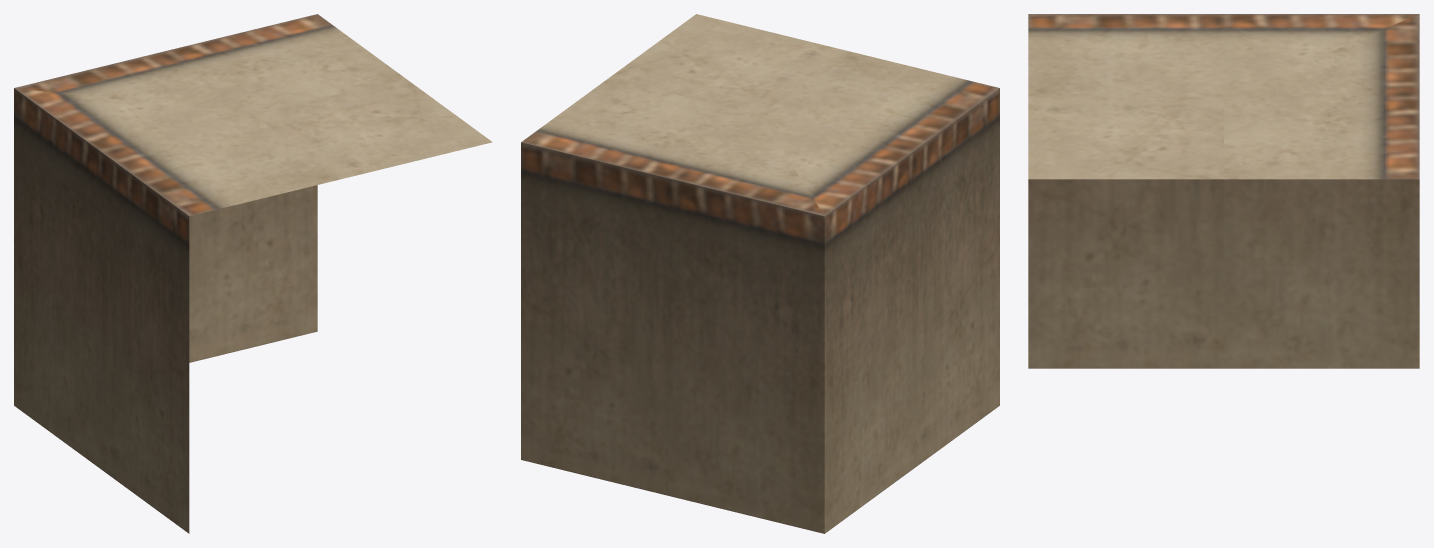
Rendered from oneside_border_corner.glb.
3 renders of one model, left to right at view 1: azimuth 30°, elevation 25°; view 2: azimuth 150°, elevation 25°; view 3: azimuth 270°, elevation 25°, orthographic. The views are drawn at different scales.
Visible parts, largest first — view 1: Floor_04_11; view 2: Floor_04_11; view 3: Floor_04_11.
Part boxes in pixels (x1=…): Floor_04_11: x1=14, y1=14, x2=492, y2=533; Floor_04_11: x1=521, y1=14, x2=999, y2=533; Floor_04_11: x1=1028, y1=14, x2=1419, y2=368.
Size of the model in its own units: 5 by 5 by 5.
Materials: 3 (3 with a texture image).
